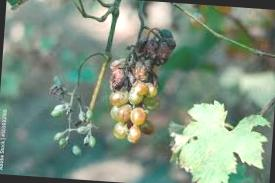Grape Rotten: (104, 23, 177, 146)
